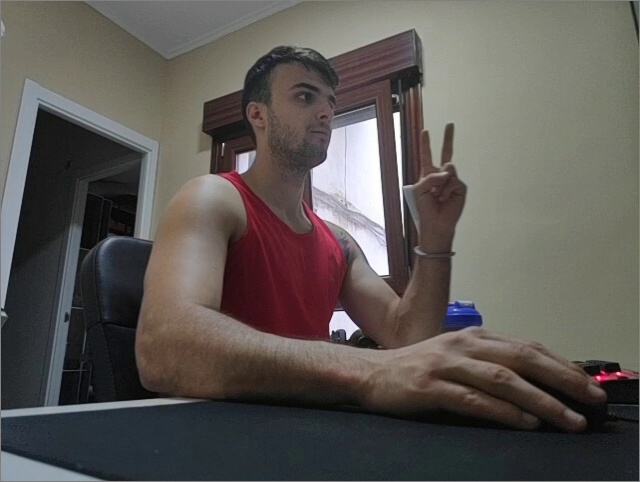Peace: (409, 121, 469, 235)
